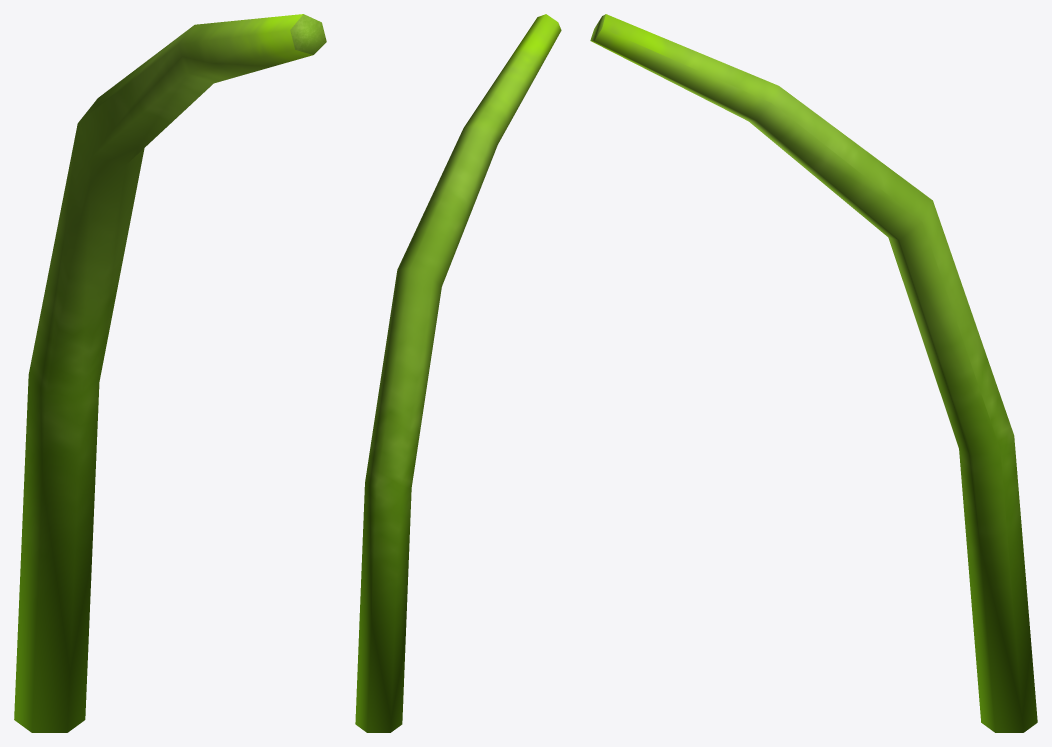
The model's file is stem06.fbx.
3 views of the same model, side by side, from view 1: azimuth 30°, elevation 25°; view 2: azimuth 150°, elevation 25°; view 3: azimuth 270°, elevation 25° (orthographic). The views are drawn at different scales.
Parts seen in each view (by area): view 1: stem06; view 2: stem06; view 3: stem06.
Part boxes in pixels (box(x1,y1,x2,y2)): stem06: box(14, 14, 326, 732); stem06: box(355, 14, 561, 732); stem06: box(590, 14, 1037, 732).
Bounding box in the file's own units: 13.5 × 215 × 123.
